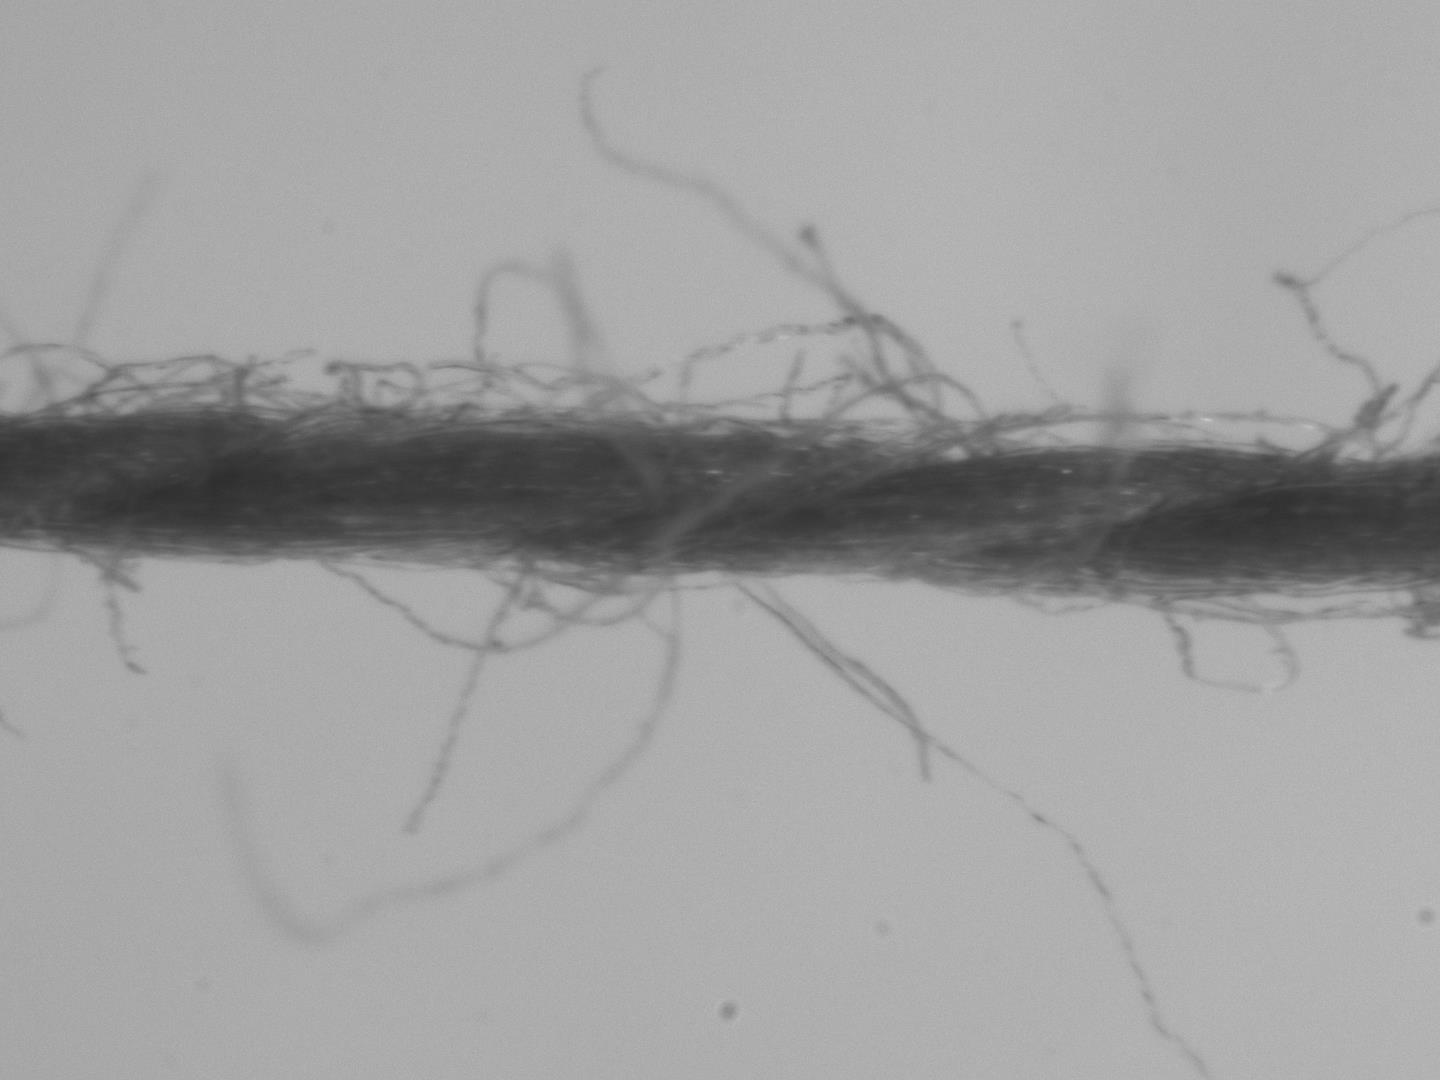loop_fiber: (308, 555, 670, 655), (668, 311, 952, 431), (1141, 581, 1307, 700)
protruding_fiber: (392, 559, 533, 839), (749, 574, 935, 785)
